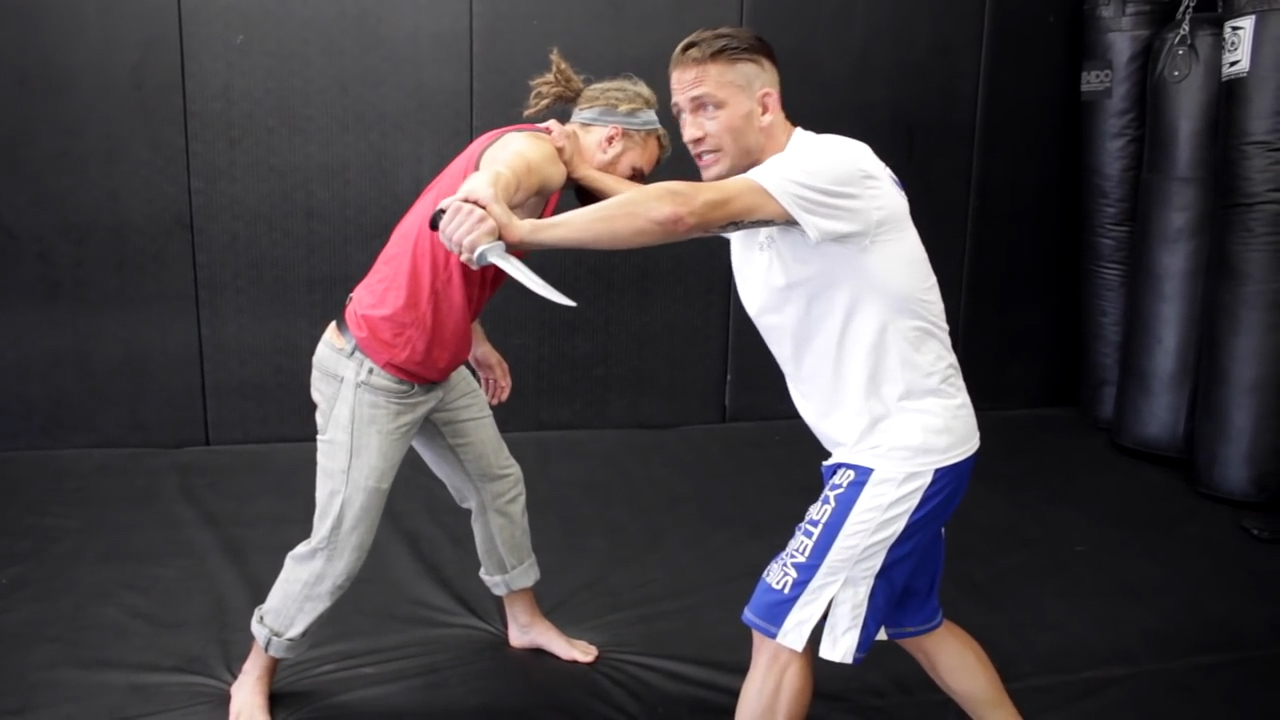knife: (421, 200, 586, 316)
